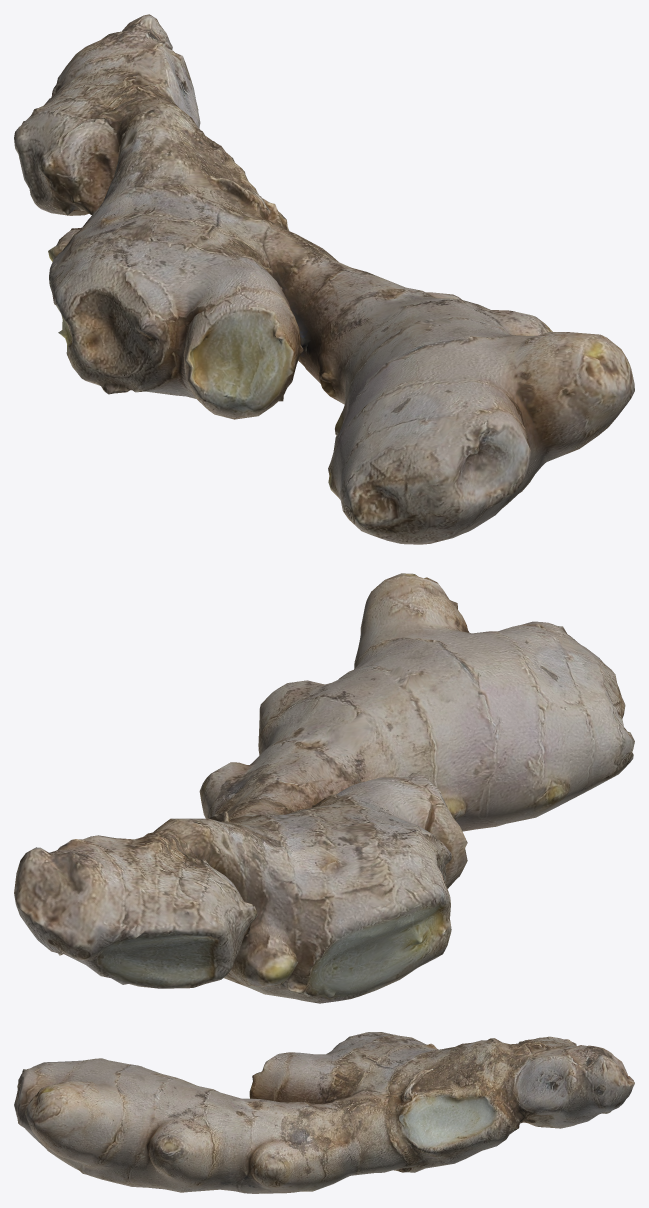
File: food_ginger_01.glb
The picture shows the model from 3 angles, top to bottom: view 1: azimuth 30°, elevation 25°; view 2: azimuth 150°, elevation 25°; view 3: azimuth 270°, elevation 25°; orthographic projection. The views are drawn at different scales.
Parts seen in each view (by area): view 1: food_ginger_01; view 2: food_ginger_01; view 3: food_ginger_01.
Boxes of the visible parts, x1,y1,x2,y2 form: food_ginger_01: (14, 14, 634, 544); food_ginger_01: (14, 573, 634, 1003); food_ginger_01: (14, 1032, 634, 1193).
Size of the model in its own units: 0.072 by 0.0442 by 0.1724.
1 material, 1 textured.
